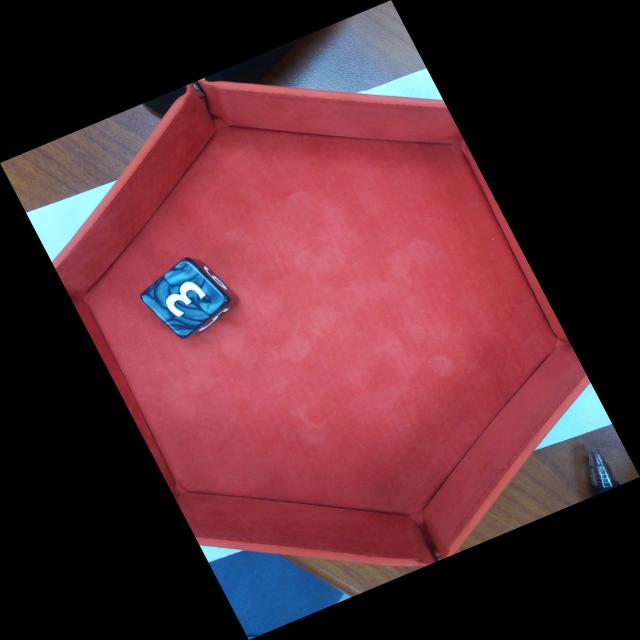dice: (134, 256, 232, 343)
